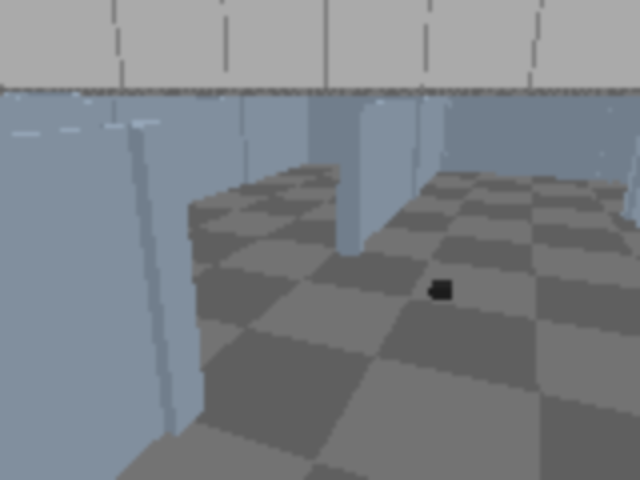puck: (430, 279, 453, 302)
